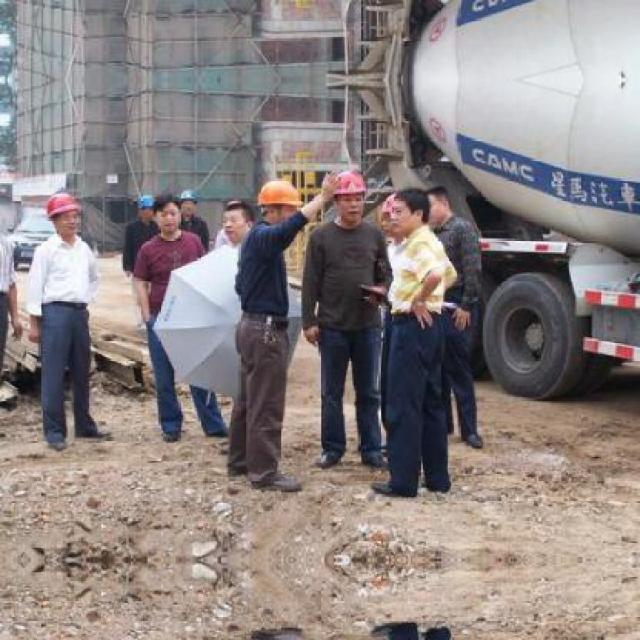hat: (256, 178, 310, 211), (37, 190, 85, 223), (331, 168, 371, 198), (130, 190, 156, 208), (176, 186, 202, 203)
